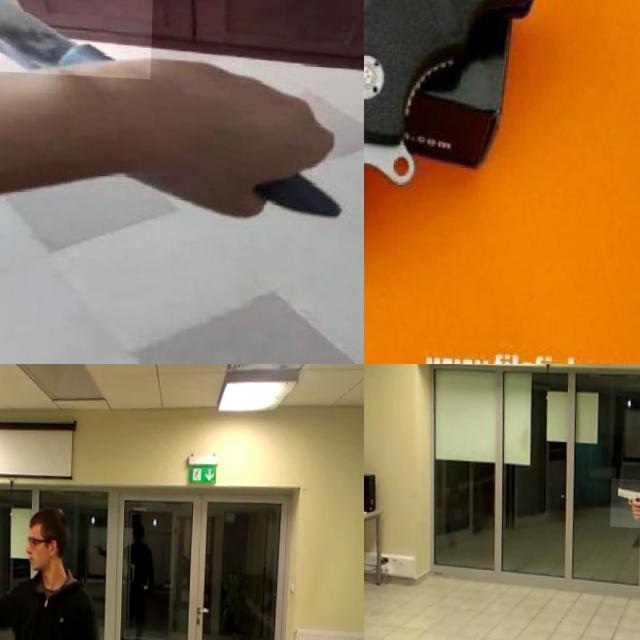-: (364, 46, 518, 364), (0, 0, 155, 76)
gun-knife-thesis - v11 Yolov5 augmented: (612, 475, 640, 525), (0, 565, 22, 612)
